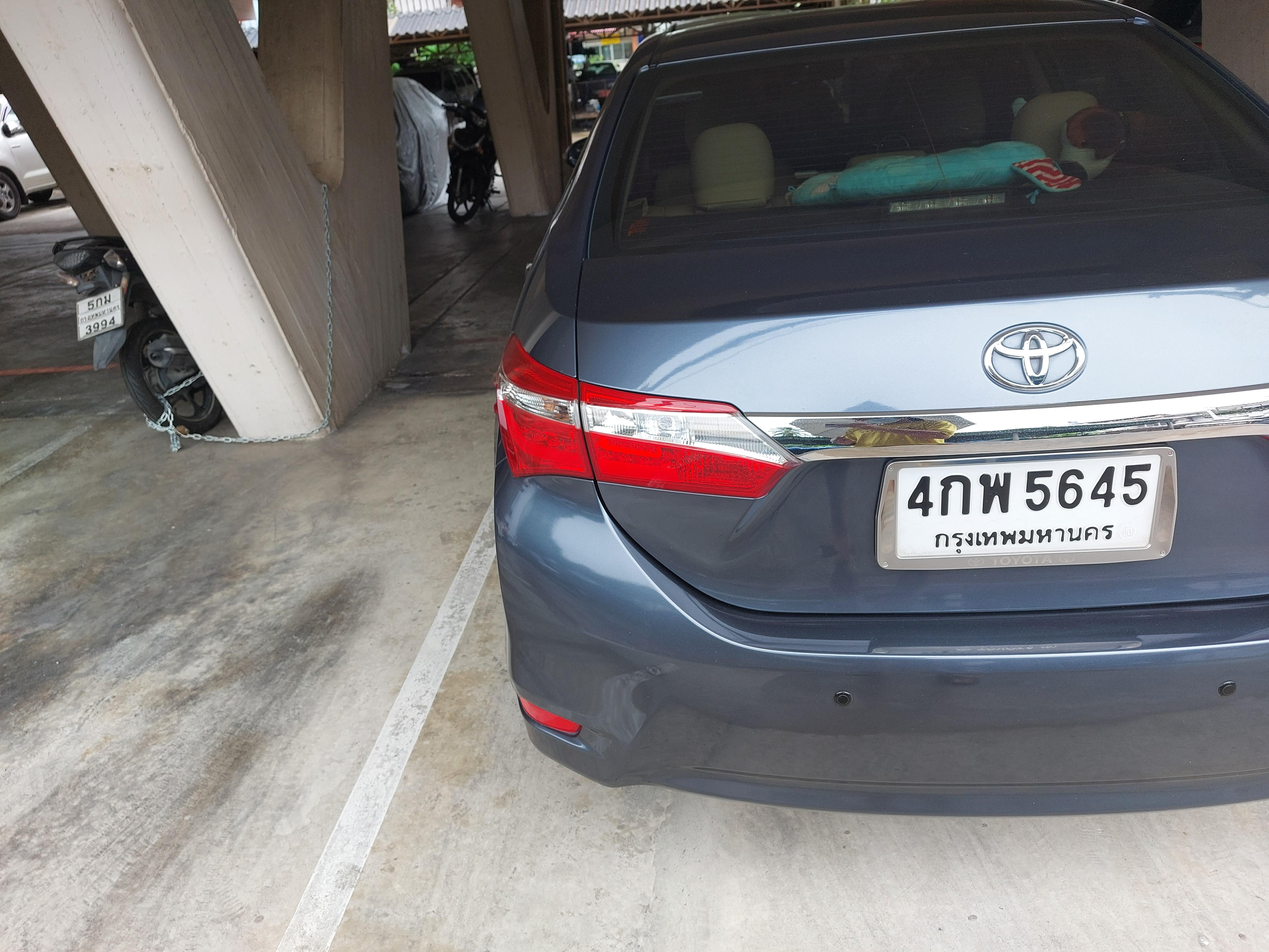license-plate: (878, 446, 1179, 571), (76, 285, 124, 339)
